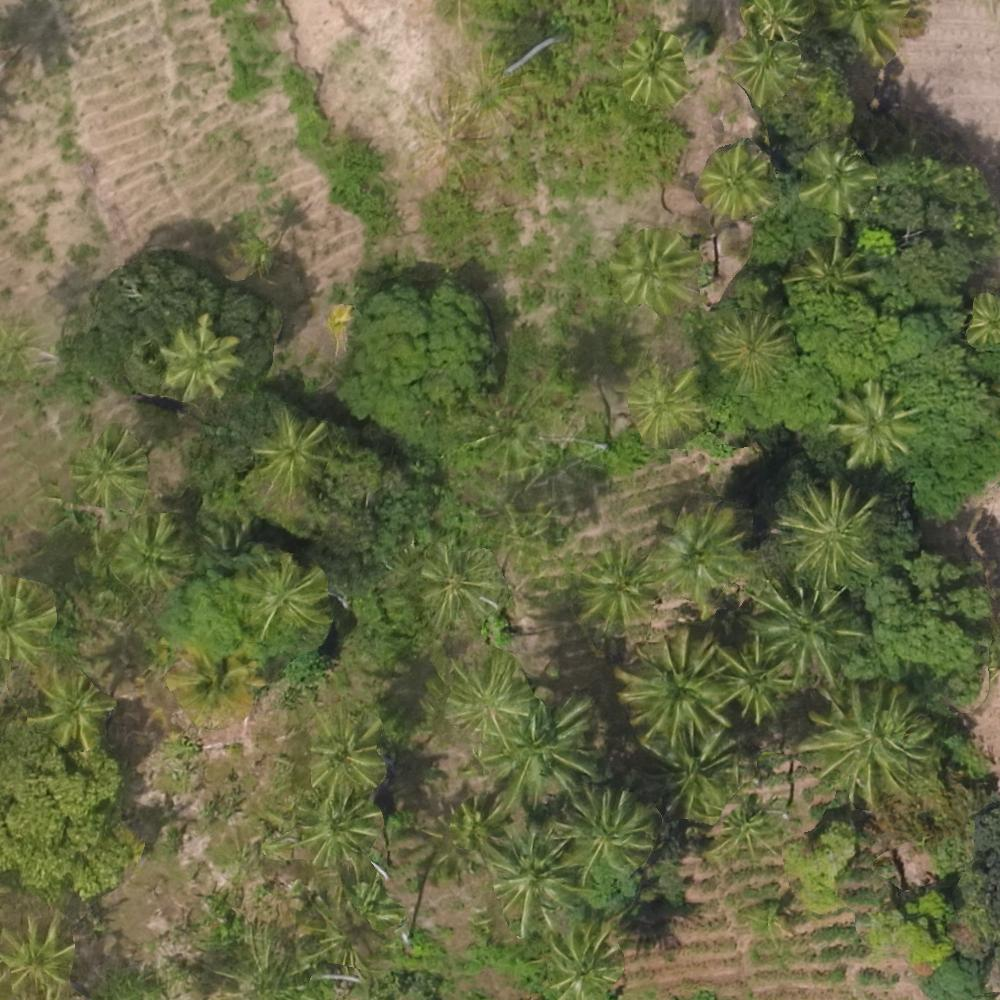Palm: (809, 685, 928, 795), (625, 633, 734, 739), (484, 700, 588, 810), (751, 580, 855, 683), (557, 789, 652, 883), (487, 832, 577, 921), (654, 509, 744, 597), (783, 482, 871, 571), (641, 731, 736, 813), (443, 656, 529, 746), (299, 710, 390, 793), (832, 380, 917, 466), (242, 555, 328, 633), (612, 230, 696, 309), (2, 915, 82, 996), (415, 545, 492, 628), (545, 923, 627, 999), (624, 368, 703, 446), (717, 636, 791, 719), (164, 321, 240, 401), (709, 312, 792, 385), (35, 668, 108, 749), (249, 410, 325, 486), (70, 434, 151, 505), (578, 546, 652, 623), (797, 139, 874, 210), (297, 793, 375, 860), (699, 147, 772, 218), (116, 513, 186, 585), (794, 230, 866, 298), (619, 35, 687, 100), (732, 35, 801, 97)
